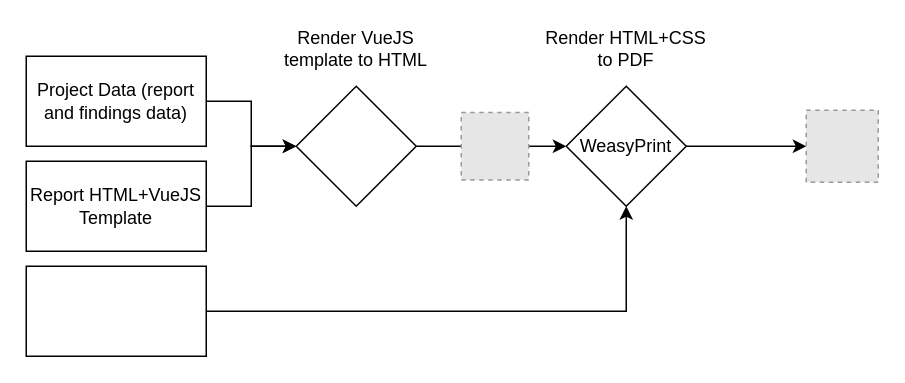
The diagram is 905 pixels wide and 383 high, and some of its shapes have lost their labels. Grey dashed boxes stand in for pictures. Here are the shapes that lost their labels. From the top down, the centre of each, then its label:
At pixel 355 145: "Headless Chrome".
At pixel 115 310: "CSS Print Styles".
